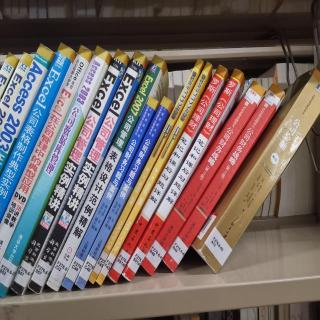book-spine: (7, 49, 130, 297), (26, 48, 147, 296), (45, 54, 165, 293), (0, 45, 112, 299), (105, 63, 229, 284), (85, 56, 204, 285), (94, 60, 213, 286), (135, 78, 269, 277), (194, 67, 320, 274), (122, 68, 244, 281), (157, 80, 287, 273), (0, 44, 94, 264), (58, 94, 160, 292), (73, 95, 175, 289), (0, 40, 76, 225), (0, 43, 54, 170)
